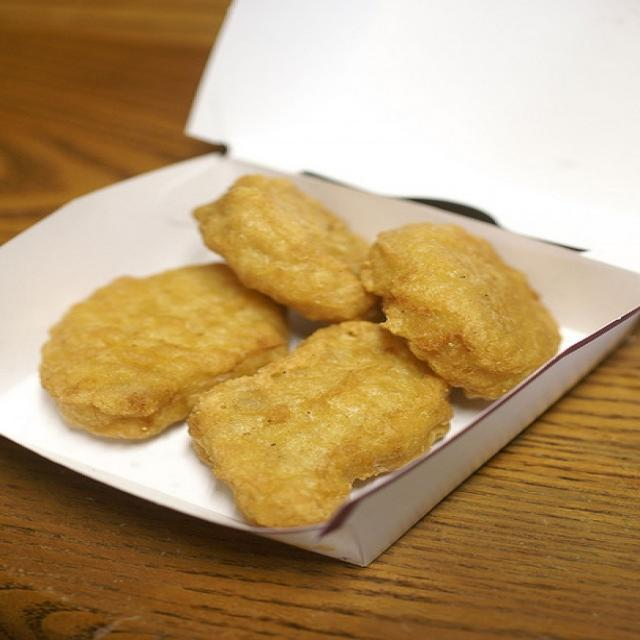Chicken nugget: (49, 164, 587, 544)
